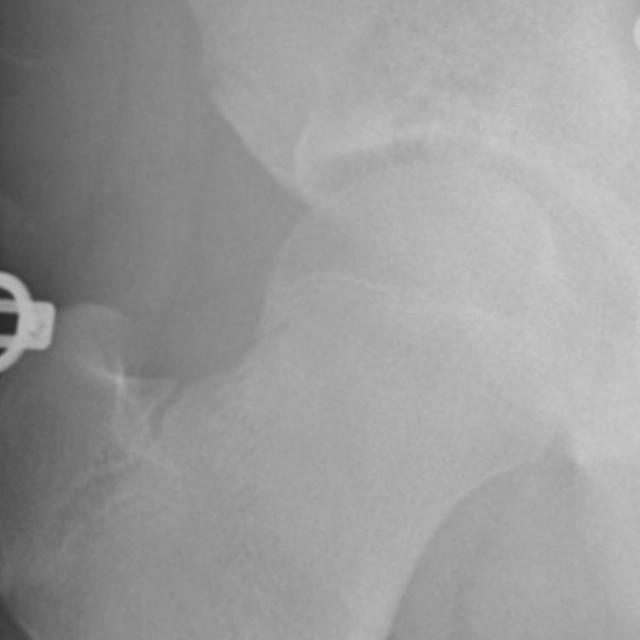Fitted_femural_head: (334, 162, 432, 334)
